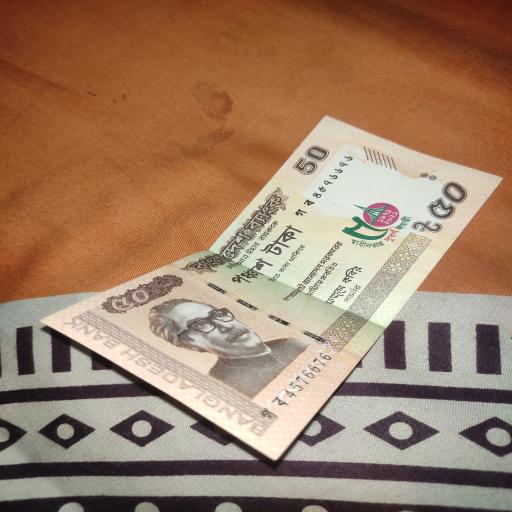50taka: (39, 118, 500, 464)
